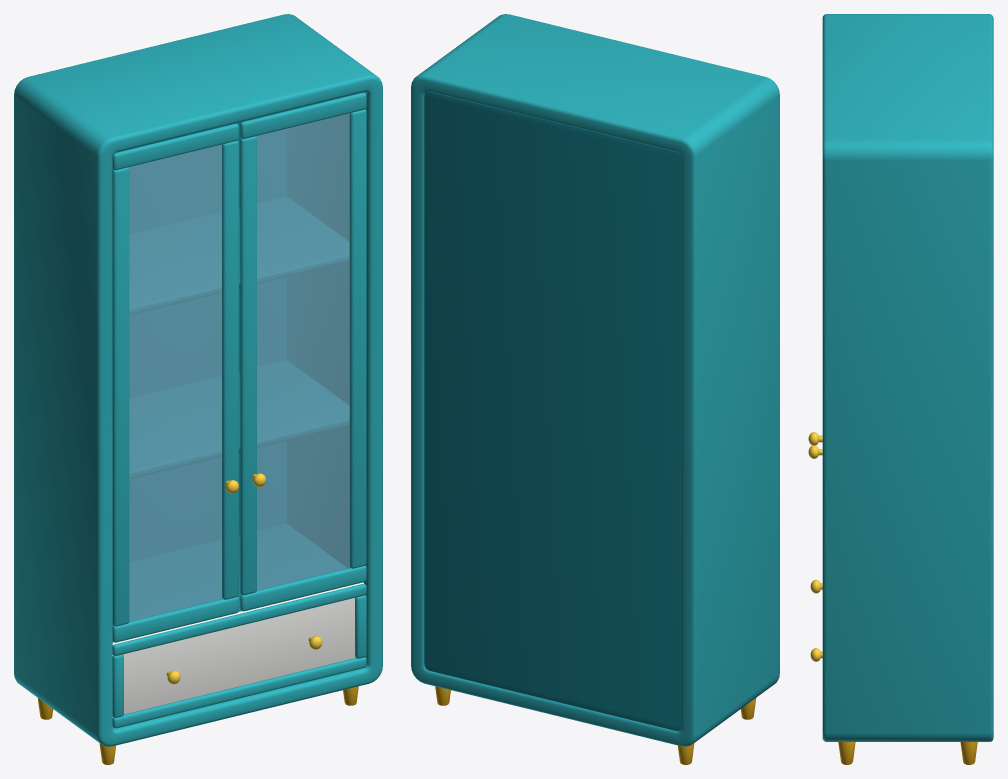
File: armario_vitrine_turquesa.glb
3 views of the same model, side by side, from view 1: azimuth 30°, elevation 25°; view 2: azimuth 150°, elevation 25°; view 3: azimuth 270°, elevation 25° (orthographic).
Parts seen in each view (by area): view 1: armario_vitrine_turquesa, porta_2, porta_1, gaveta_1; view 2: armario_vitrine_turquesa; view 3: armario_vitrine_turquesa.
Part boxes in pixels (x1,y1,x2,y2): armario_vitrine_turquesa: [14, 14, 382, 764]; porta_2: [240, 92, 366, 611]; porta_1: [112, 123, 238, 642]; gaveta_1: [112, 582, 366, 728]; armario_vitrine_turquesa: [411, 14, 779, 764]; armario_vitrine_turquesa: [822, 14, 993, 764].
Size of the model in its own units: 0.8 by 1.7 by 0.4546.
Materials: 2 (1 with a texture image).
